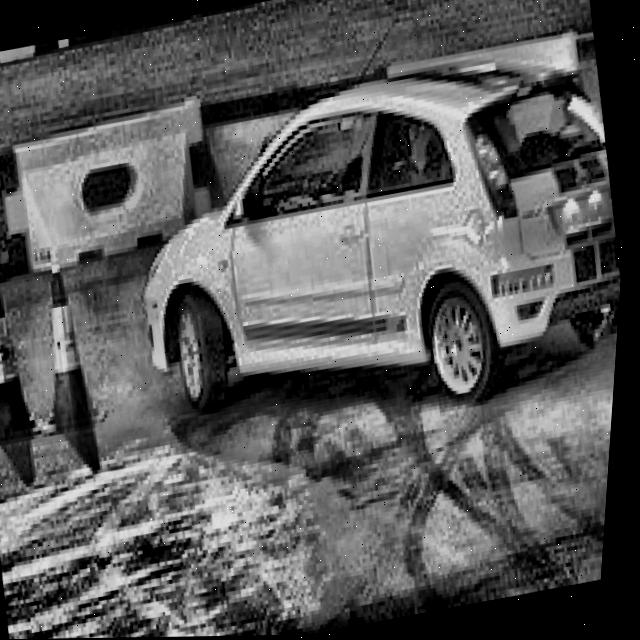light_vehicle: (94, 29, 638, 457)
